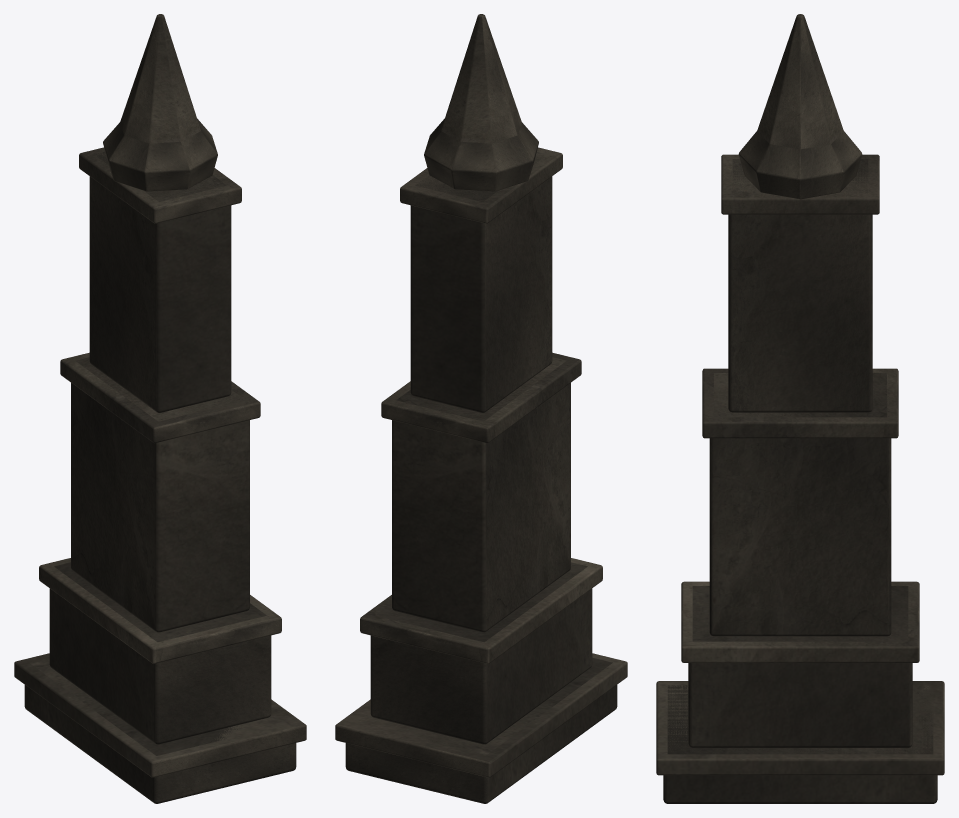
File: C04_buttress.gltf
3 renders of one model, left to right at view 1: azimuth 30°, elevation 25°; view 2: azimuth 150°, elevation 25°; view 3: azimuth 270°, elevation 25°, orthographic. The views are drawn at different scales.
Parts seen in each view (by area): view 1: Continuous buttress stage.002, Continuous buttress stage.003, Continuous buttress stage.001, Buttress pinnacle, Continuous buttress stage, Dressed buttress cap, Dressed buttress cap.001, Dressed buttress cap.002, Dressed buttress cap.003; view 2: Continuous buttress stage.002, Continuous buttress stage.003, Continuous buttress stage.001, Buttress pinnacle, Continuous buttress stage, Dressed buttress cap, Dressed buttress cap.001, Dressed buttress cap.002, Dressed buttress cap.003; view 3: Continuous buttress stage.002, Continuous buttress stage.003, Continuous buttress stage.001, Continuous buttress stage, Buttress pinnacle, Dressed buttress cap, Dressed buttress cap.001, Dressed buttress cap.002, Dressed buttress cap.003.
Boxes of the visible parts, x1,y1,x2,y2 form: Continuous buttress stage.002: [71, 357, 249, 632]; Continuous buttress stage.003: [89, 151, 231, 412]; Continuous buttress stage.001: [49, 562, 271, 744]; Buttress pinnacle: [103, 14, 217, 191]; Continuous buttress stage: [24, 657, 296, 803]; Dressed buttress cap: [14, 653, 306, 777]; Dressed buttress cap.001: [39, 558, 281, 663]; Dressed buttress cap.002: [60, 352, 260, 443]; Dressed buttress cap.003: [79, 147, 241, 223]; Continuous buttress stage.002: [392, 357, 570, 632]; Continuous buttress stage.003: [410, 154, 552, 412]; Continuous buttress stage.001: [370, 562, 592, 744]; Buttress pinnacle: [424, 14, 538, 191]; Continuous buttress stage: [345, 657, 617, 803]; Dressed buttress cap: [335, 653, 627, 777]; Dressed buttress cap.001: [360, 558, 602, 663]; Dressed buttress cap.002: [381, 352, 581, 443]; Dressed buttress cap.003: [400, 147, 562, 223]; Continuous buttress stage.002: [709, 373, 891, 636]; Continuous buttress stage.003: [728, 159, 872, 412]; Continuous buttress stage.001: [688, 586, 912, 747]; Continuous buttress stage: [663, 685, 937, 803]; Buttress pinnacle: [738, 14, 862, 199]; Dressed buttress cap: [656, 681, 944, 775]; Dressed buttress cap.001: [681, 581, 919, 662]; Dressed buttress cap.002: [702, 368, 898, 438]; Dressed buttress cap.003: [721, 154, 879, 214].
Bounding box in the file's own units: 1.2 × 5.34 × 1.85.
4 materials, 4 textured.
